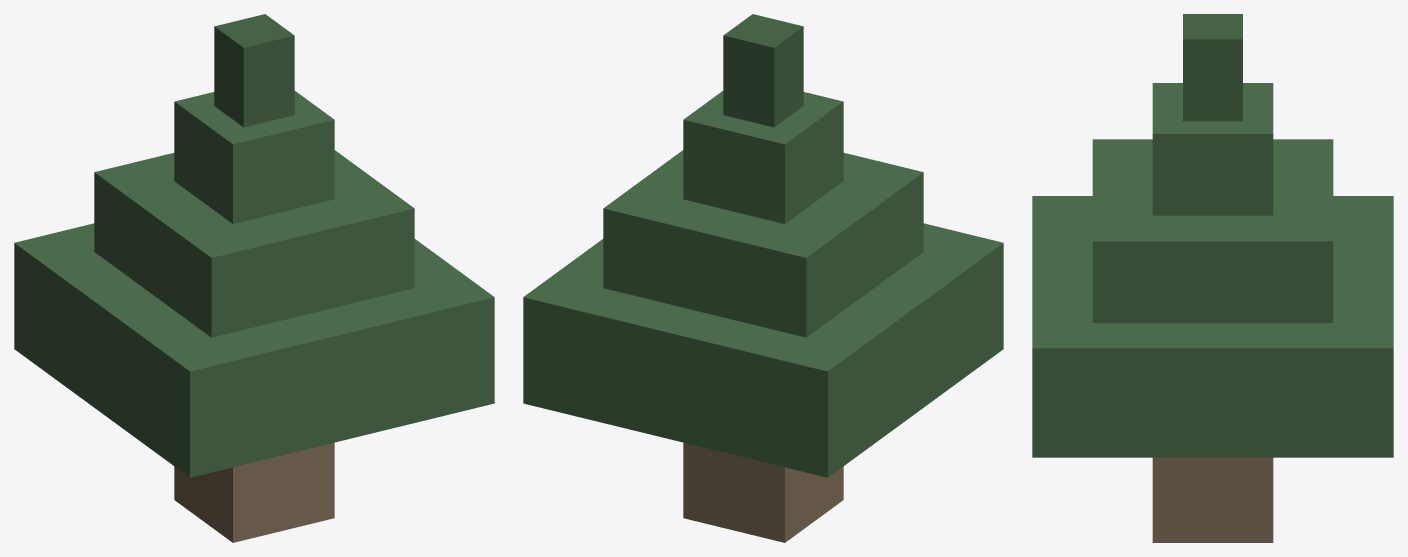
File: tejo_04.glb
3 renders of one model, left to right at view 1: azimuth 30°, elevation 25°; view 2: azimuth 150°, elevation 25°; view 3: azimuth 270°, elevation 25°, orthographic. The views are drawn at different scales.
Visible parts, largest first — view 1: tejo_04; view 2: tejo_04; view 3: tejo_04.
Boxes of the visible parts, x1=… form: tejo_04: x1=14, y1=14, x2=494, y2=542; tejo_04: x1=523, y1=14, x2=1003, y2=542; tejo_04: x1=1032, y1=14, x2=1393, y2=542.
Bounding box in the file's own units: 1.2 × 1.8 × 1.2.
